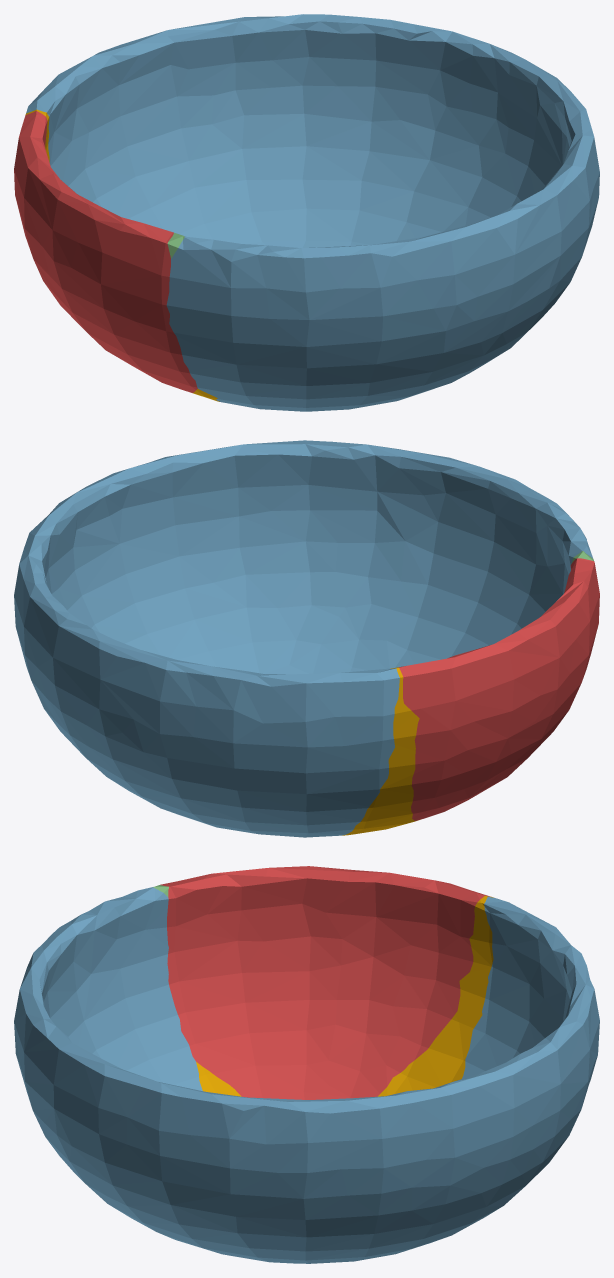
Rendered from fractured_78_4pcs.glb.
3 views of the same model, one above another, from view 1: azimuth 30°, elevation 25°; view 2: azimuth 150°, elevation 25°; view 3: azimuth 270°, elevation 25° (orthographic).
Visible parts, largest first — view 1: piece_2.obj, piece_1.obj; view 2: piece_2.obj, piece_1.obj, piece_0.obj; view 3: piece_2.obj, piece_1.obj, piece_0.obj.
Boxes of the visible parts, left/top/right/bottom form: piece_2.obj: left=26, top=14, right=599, bottom=411; piece_1.obj: left=14, top=111, right=197, bottom=392; piece_2.obj: left=14, top=440, right=592, bottom=837; piece_1.obj: left=399, top=558, right=599, bottom=821; piece_0.obj: left=342, top=667, right=419, bottom=835; piece_2.obj: left=14, top=887, right=599, bottom=1263; piece_1.obj: left=160, top=866, right=491, bottom=1099; piece_0.obj: left=196, top=895, right=493, bottom=1096.
Bounding box in the file's own units: 0.9998 × 0.4374 × 1.
